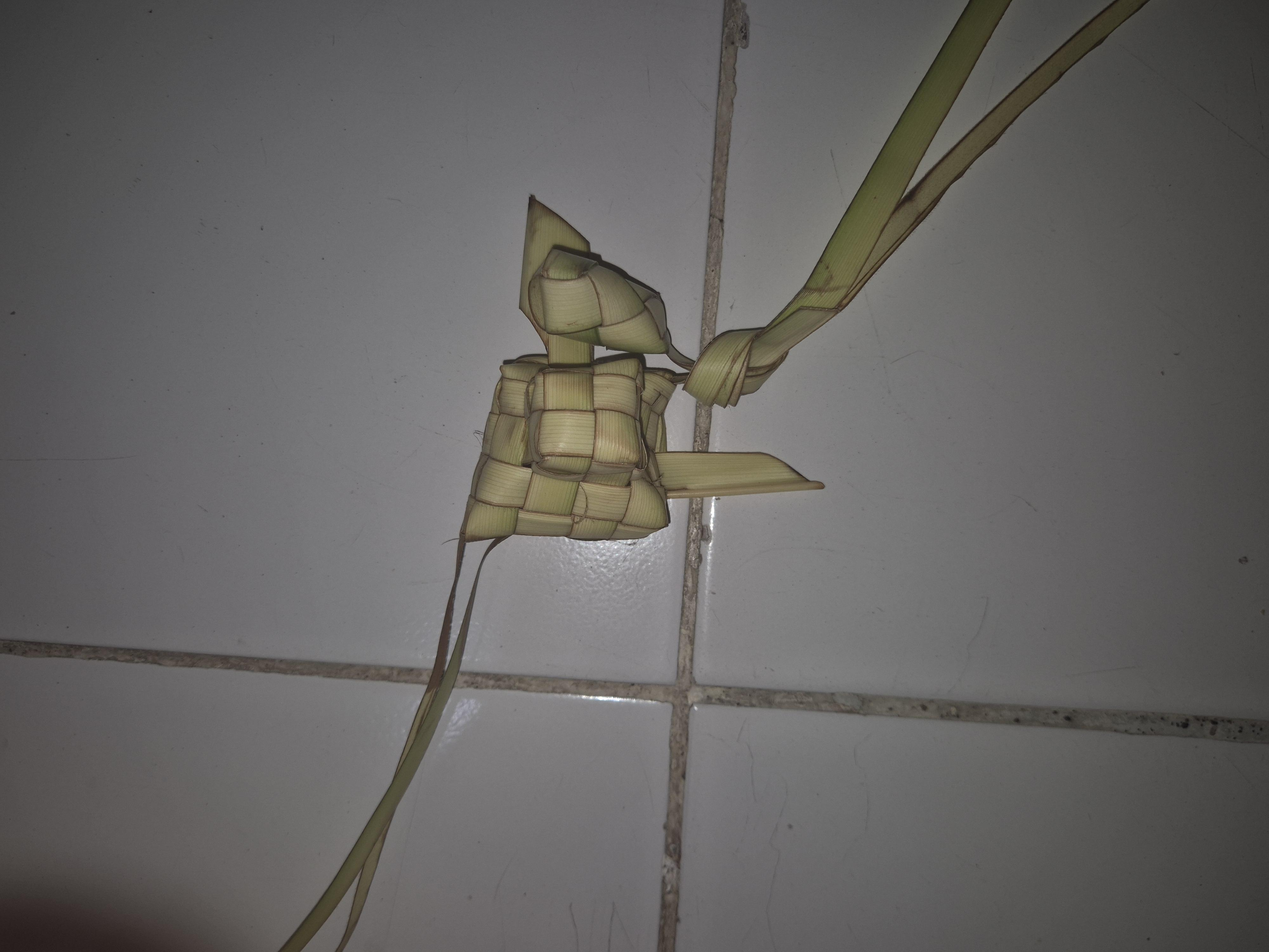Tipat Gong: (547, 346, 794, 506)
